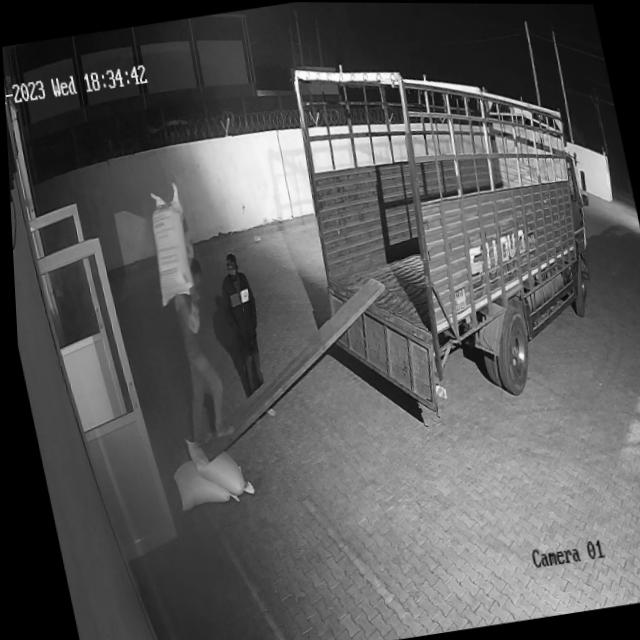sack: (134, 180, 198, 307), (179, 428, 251, 503), (164, 453, 234, 510)
